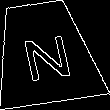N_N: (16, 25, 74, 81)
